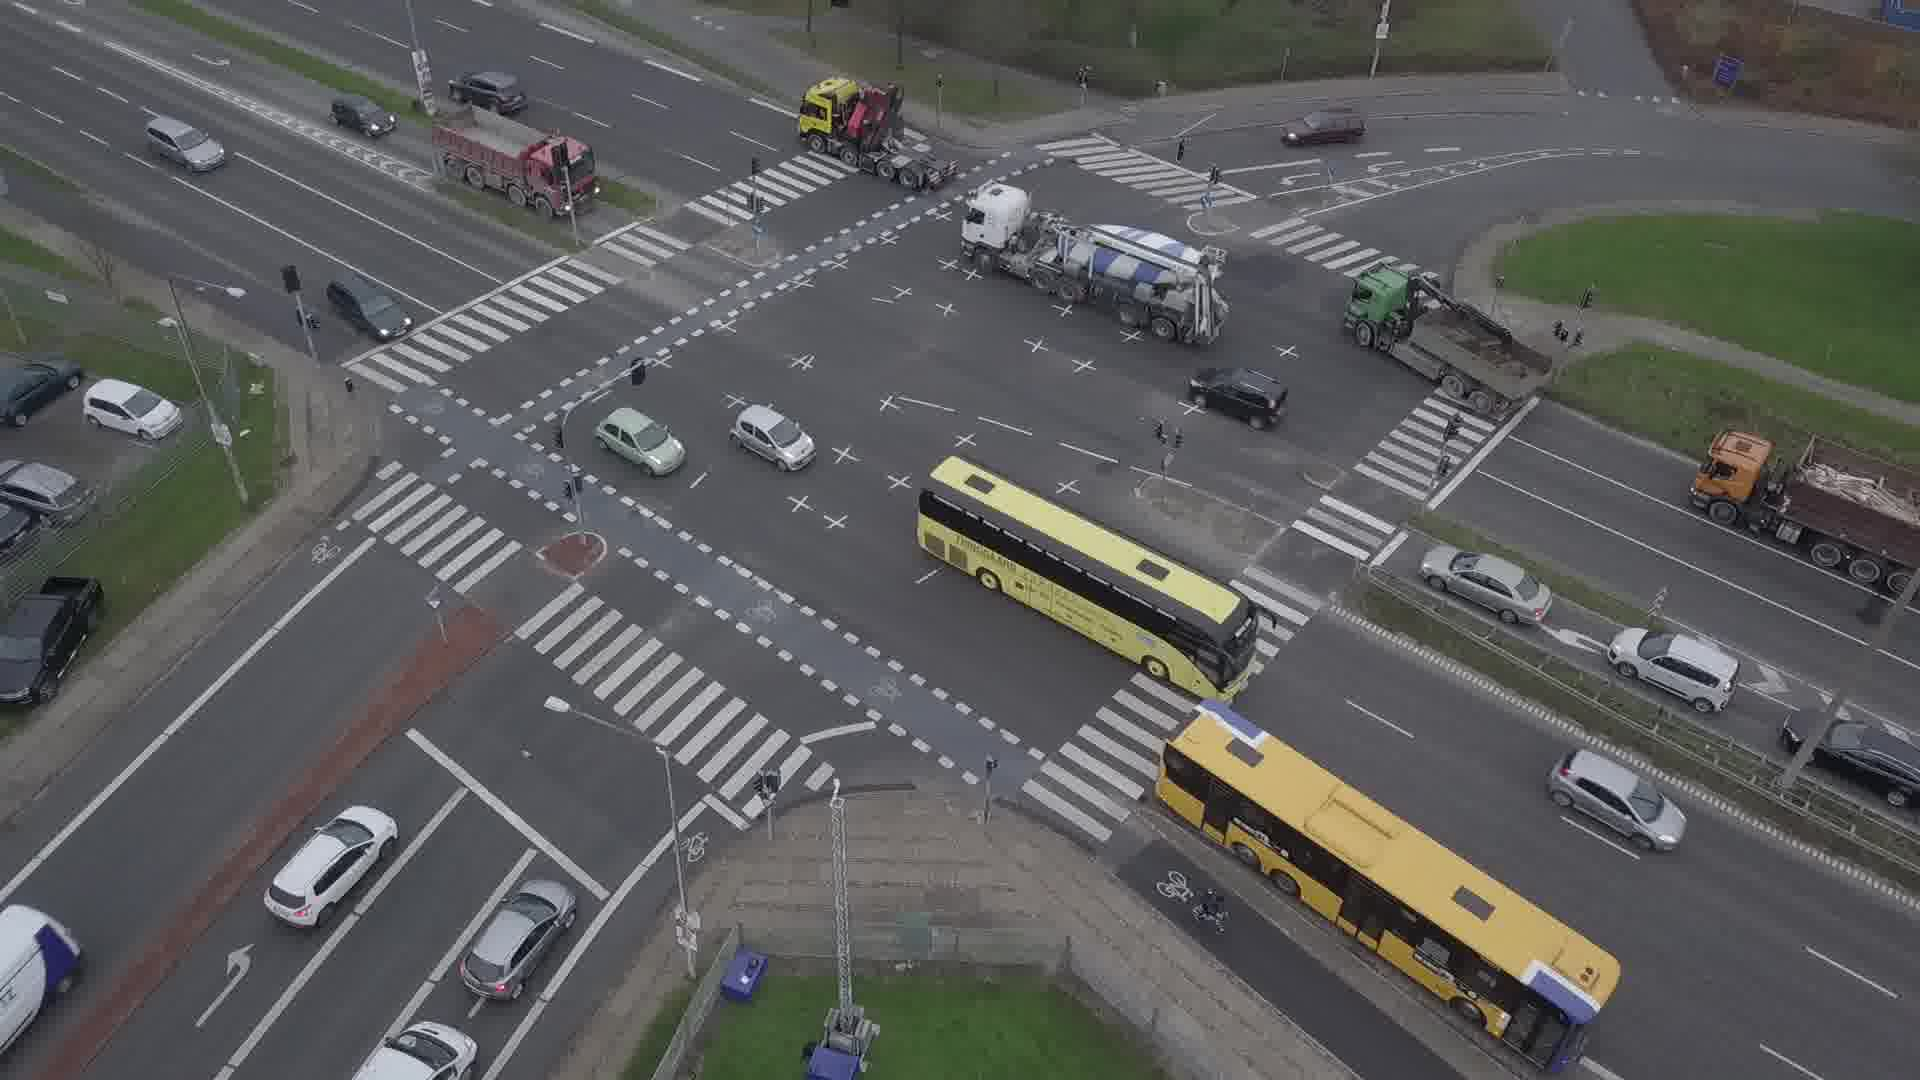bicycle: (1193, 887, 1226, 934)
car: (262, 806, 400, 926), (460, 880, 578, 1002), (1549, 748, 1687, 851), (1783, 709, 1920, 808), (1607, 626, 1741, 713), (1418, 545, 1553, 626), (593, 406, 684, 475), (1189, 367, 1288, 429), (324, 272, 411, 340), (731, 405, 816, 471), (142, 115, 224, 171), (448, 70, 527, 113), (1280, 107, 1366, 145), (330, 91, 396, 138)
